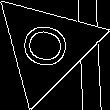O_E: (16, 19, 77, 74)
